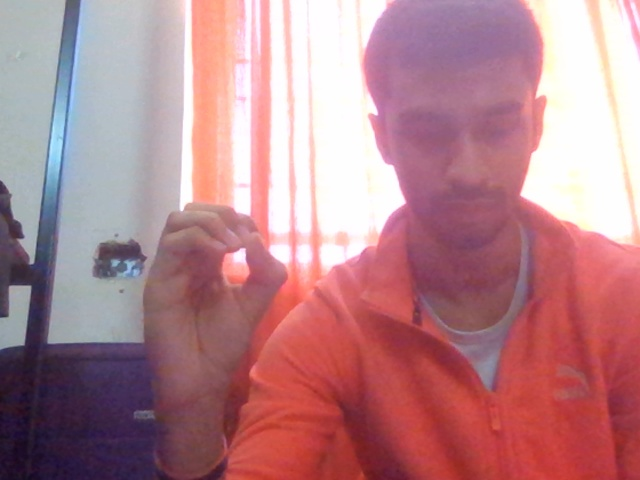O: (113, 186, 343, 446)
